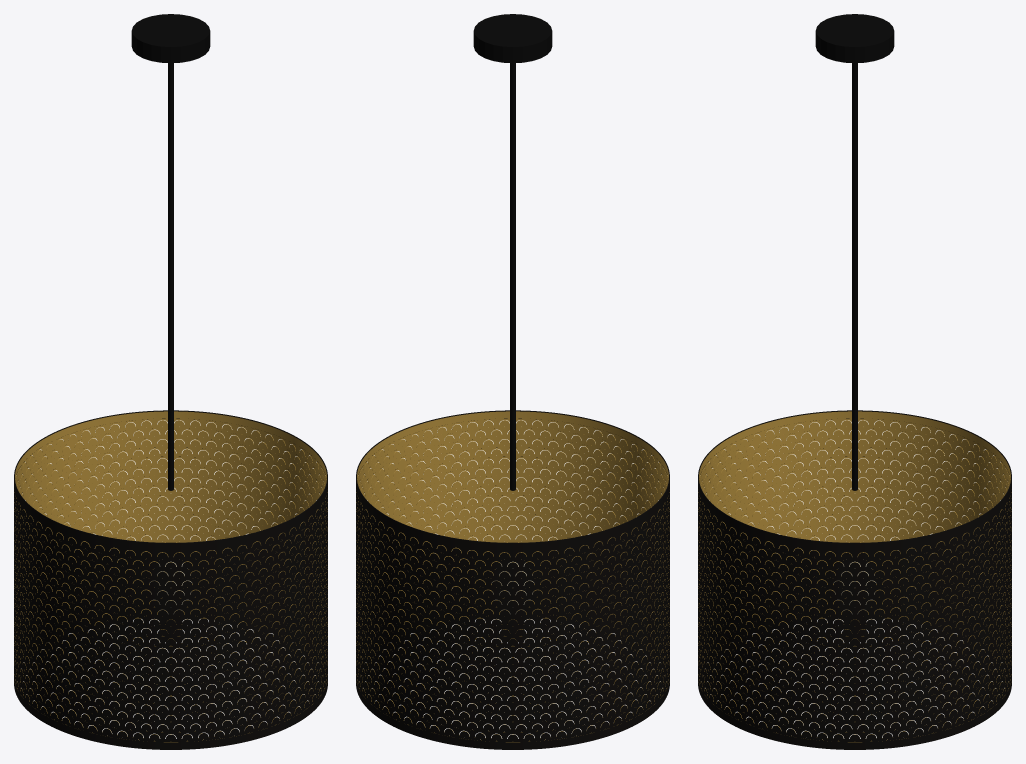
Rendered from small_black_pendant.glb.
3 renders of one model, left to right at view 1: azimuth 30°, elevation 25°; view 2: azimuth 150°, elevation 25°; view 3: azimuth 270°, elevation 25°, orthographic.
Visible parts, largest first — view 1: Perforated_black_outer_shade, Perforated_gold_inner_shade, Gold_slot_edges, Ceiling_canopy, Pendant_cord, Top_rolled_rim; view 2: Perforated_black_outer_shade, Perforated_gold_inner_shade, Gold_slot_edges, Ceiling_canopy, Pendant_cord, Top_rolled_rim; view 3: Perforated_black_outer_shade, Perforated_gold_inner_shade, Gold_slot_edges, Ceiling_canopy, Pendant_cord, Top_rolled_rim.
Boxes of the visible parts, x1=… form: Perforated_black_outer_shade: x1=14, y1=410, x2=327, y2=749; Perforated_gold_inner_shade: x1=14, y1=411, x2=327, y2=742; Gold_slot_edges: x1=14, y1=420, x2=327, y2=740; Ceiling_canopy: x1=131, y1=14, x2=210, y2=63; Pendant_cord: x1=168, y1=63, x2=173, y2=490; Top_rolled_rim: x1=14, y1=410, x2=327, y2=542; Perforated_black_outer_shade: x1=356, y1=410, x2=669, y2=749; Perforated_gold_inner_shade: x1=356, y1=411, x2=669, y2=742; Gold_slot_edges: x1=356, y1=420, x2=669, y2=740; Ceiling_canopy: x1=473, y1=14, x2=552, y2=63; Pendant_cord: x1=510, y1=63, x2=515, y2=490; Top_rolled_rim: x1=356, y1=410, x2=669, y2=542; Perforated_black_outer_shade: x1=698, y1=410, x2=1011, y2=749; Perforated_gold_inner_shade: x1=698, y1=411, x2=1011, y2=742; Gold_slot_edges: x1=698, y1=420, x2=1011, y2=740; Ceiling_canopy: x1=815, y1=14, x2=894, y2=63; Pendant_cord: x1=852, y1=63, x2=857, y2=490; Top_rolled_rim: x1=698, y1=410, x2=1011, y2=542.
Bounding box in the file's own units: 0.44 × 1.01 × 0.44.
Materials: 7 (4 with a texture image).
